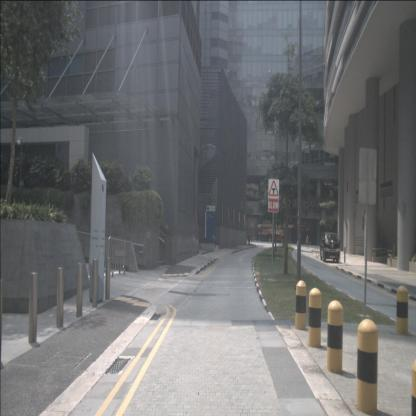human-pedestrian-adult: (247, 232, 250, 246), (306, 235, 309, 248)
vehicle-car: (320, 231, 340, 263)
